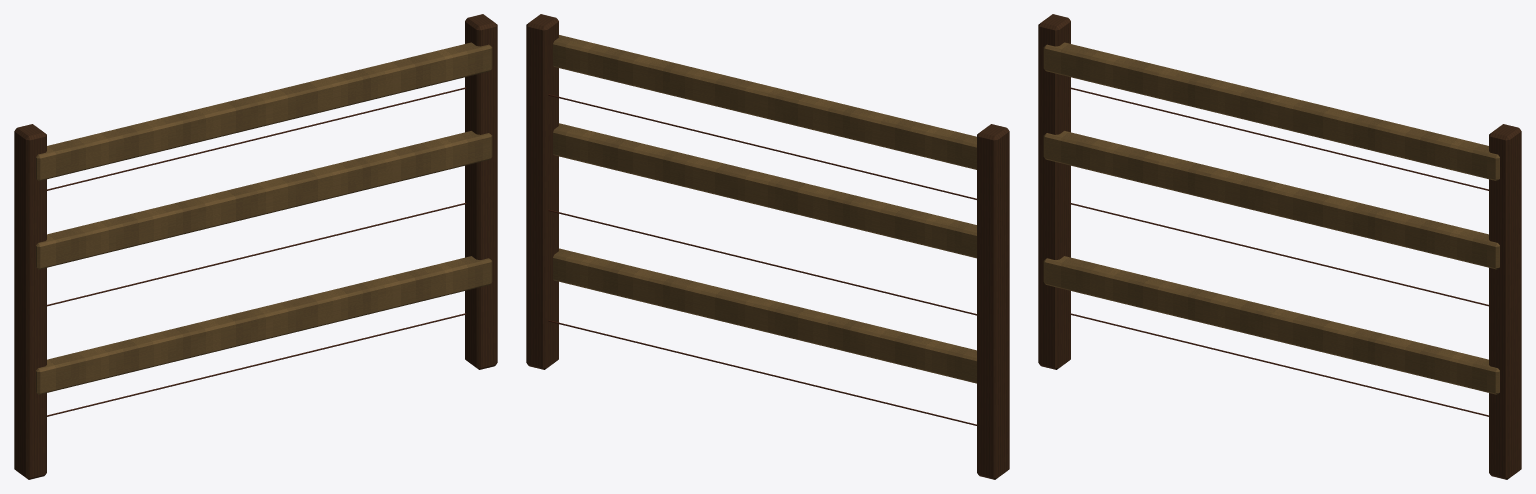
File: level_enclosure_field.glb
3 views of the same model, side by side, from view 1: azimuth 30°, elevation 25°; view 2: azimuth 150°, elevation 25°; view 3: azimuth 330°, elevation 25° (orthographic).
Parts seen in each view (by area): view 1: level_enclosure_field; view 2: level_enclosure_field; view 3: level_enclosure_field.
Boxes of the visible parts, left/top/right/bottom form: level_enclosure_field: left=14, top=14, right=497, bottom=479; level_enclosure_field: left=526, top=14, right=1009, bottom=479; level_enclosure_field: left=1038, top=14, right=1521, bottom=479.
Size of the model in its own units: 2.01 by 1.4 by 0.1275.
3 materials, 3 textured.
